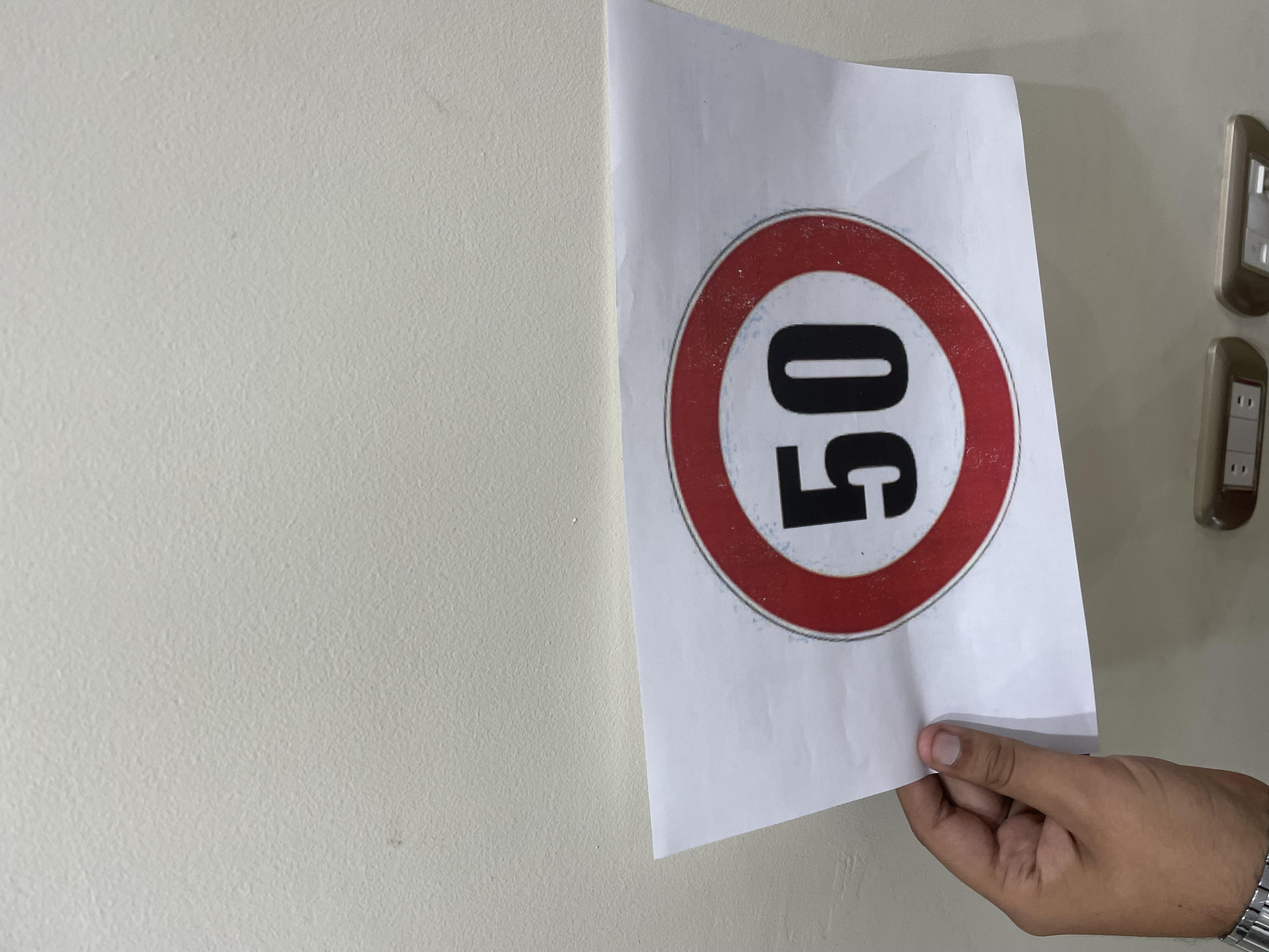50-Speed: (429, 494, 1002, 768)
